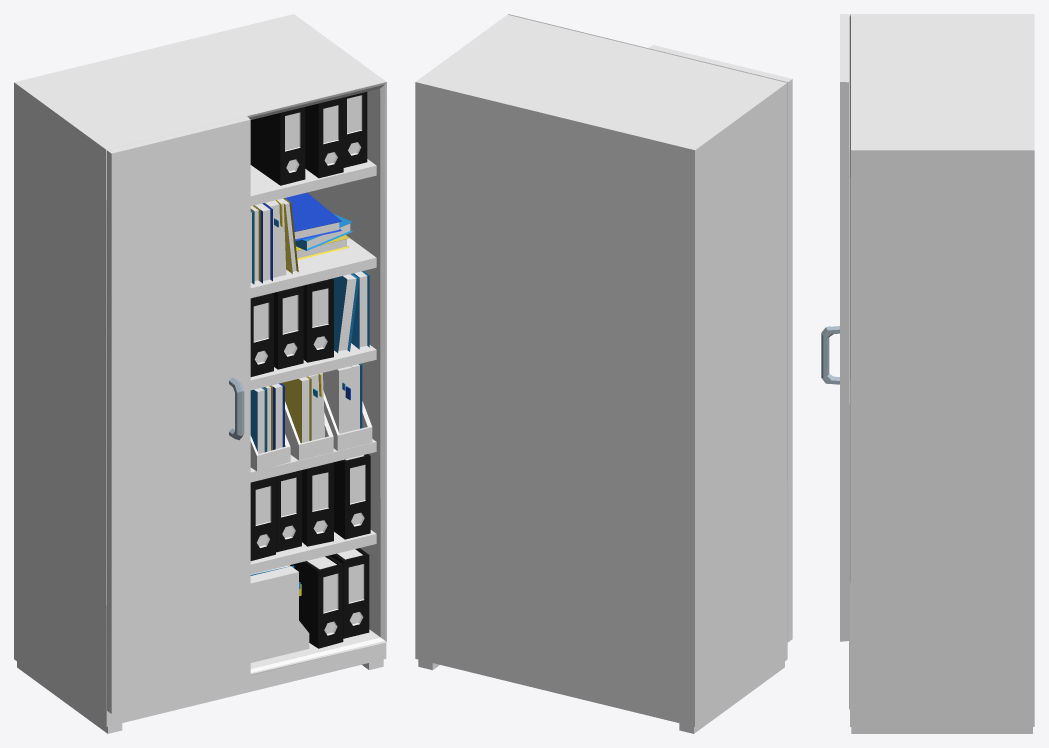
The model's file is cabinet-big-open.fbx.
3 views of the same model, side by side, from view 1: azimuth 30°, elevation 25°; view 2: azimuth 150°, elevation 25°; view 3: azimuth 270°, elevation 25° (orthographic).
Visible parts, largest first — view 1: cabinet-big-open; view 2: cabinet-big-open; view 3: cabinet-big-open.
Part boxes in pixels (x1,y1,x2,y2): cabinet-big-open: [14, 14, 386, 733]; cabinet-big-open: [415, 14, 792, 733]; cabinet-big-open: [821, 14, 1034, 733].
Size of the model in its own units: 2.16 by 4.31 by 1.43.
1 material, 1 textured.
